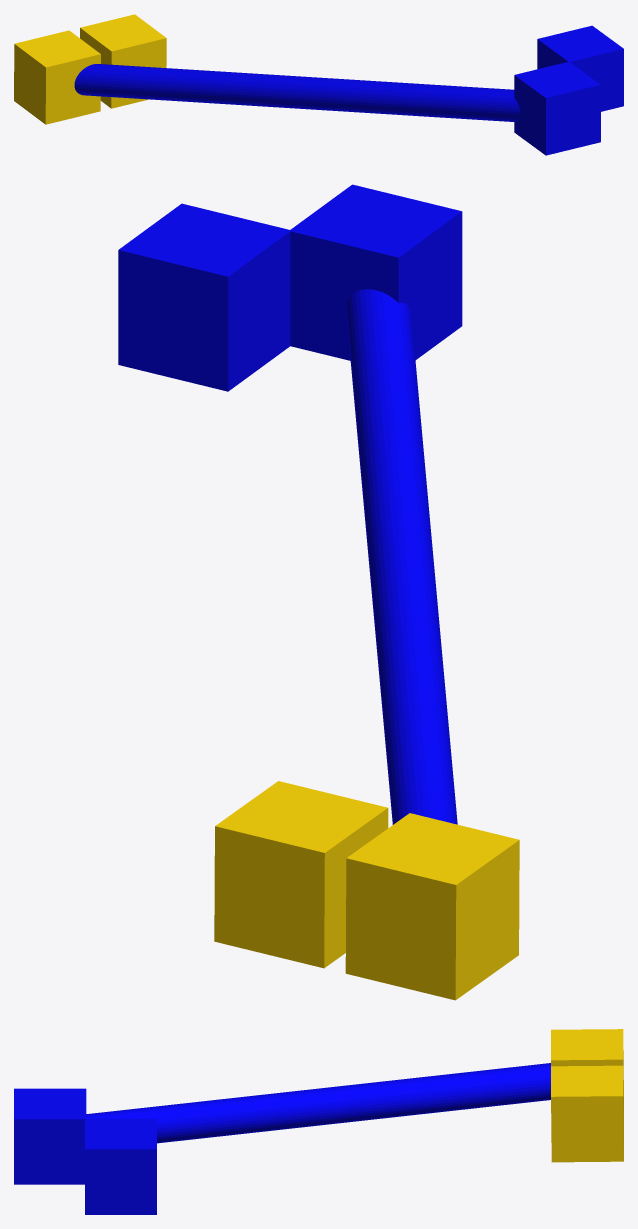
File: 2braces.obj
3 renders of one model, top to bottom at view 1: azimuth 30°, elevation 25°; view 2: azimuth 150°, elevation 25°; view 3: azimuth 270°, elevation 25°, orthographic. The views are drawn at different scales.
Parts seen in each view (by area): view 1: object4, object3, object2, object6, object5; view 2: object4, object2, object6, object5, object3; view 3: object4, object5, object6, object3, object2.
Part boxes in pixels (x1,y1,x2,y2): object4: (74,64,520,121); object3: (514,61,600,155); object2: (14,30,100,124); object6: (537,25,623,111); object5: (80,14,166,108); object4: (346,289,457,824); object2: (345,813,519,1000); object6: (118,203,290,391); object5: (214,781,388,968); object3: (290,184,462,360); object4: (86,1063,550,1143); object5: (551,1065,623,1162); object6: (85,1118,156,1214); object3: (14,1088,86,1184); object2: (551,1029,623,1115).
Size of what is drawn, in the model's own units: 13.6 by 4.69 by 16.88.
